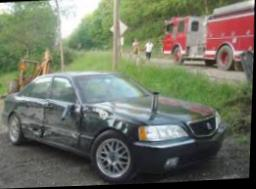Door: (22, 74, 52, 141)
